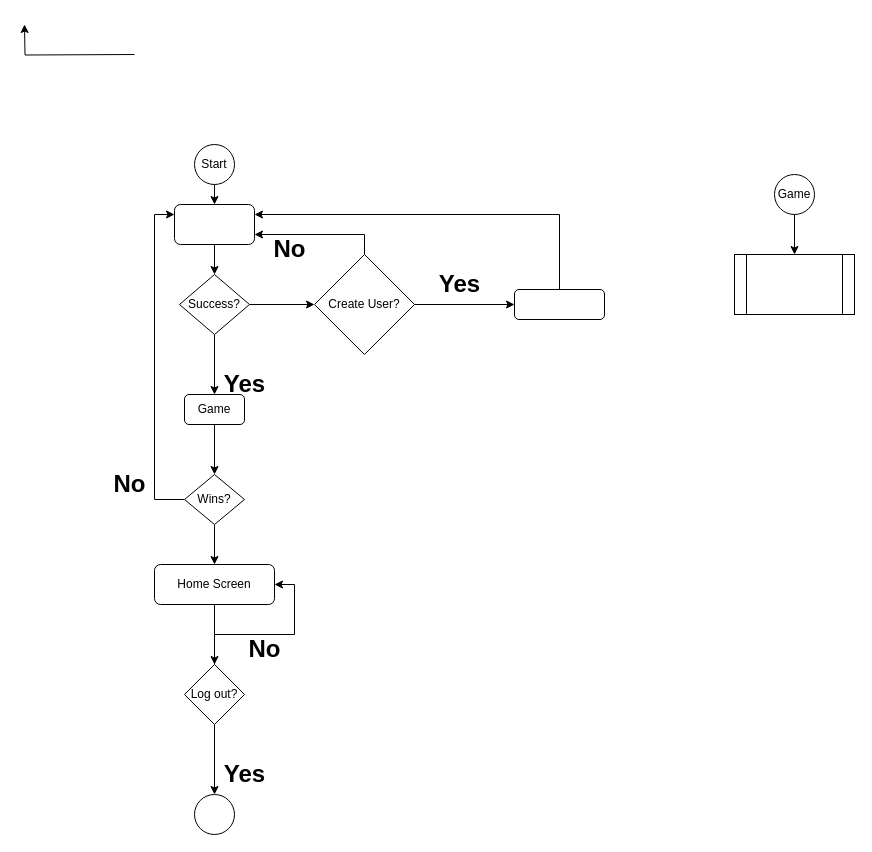
The diagram is 872 pixels wide and 852 high, and some of its shapes have lost their labels. Here are the shapes that lost their labels. From the top down, the box of each, then its label:
(174, 204, 254, 244): User Login
(514, 288, 604, 320): Create user
(734, 254, 854, 314): Mini game
(194, 794, 234, 834): End
